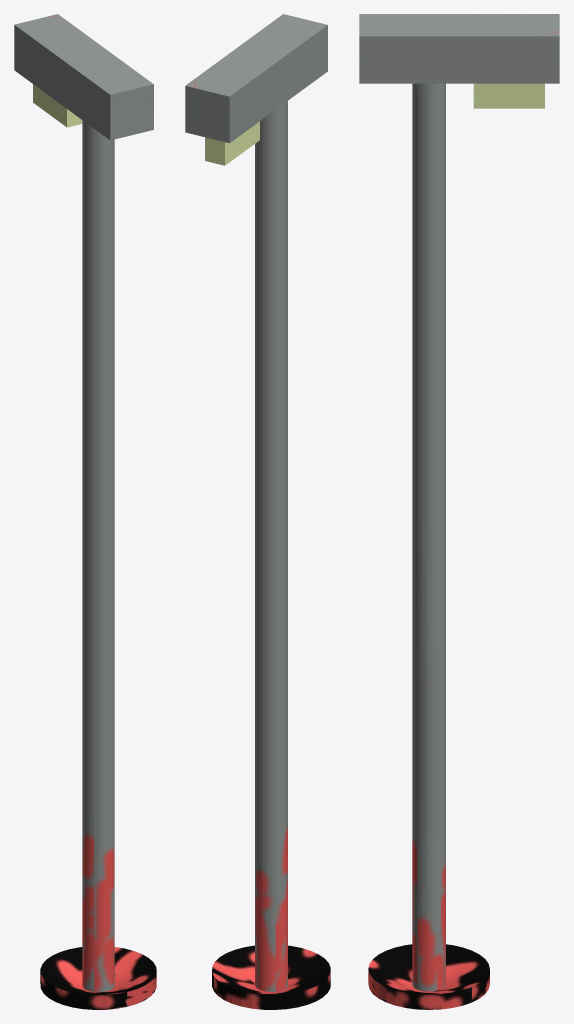
Rendered from lamppost.gltf.
The picture shows the model from 3 angles, left to right: view 1: azimuth 30°, elevation 25°; view 2: azimuth 150°, elevation 25°; view 3: azimuth 270°, elevation 25°; orthographic projection. The views are drawn at different scales.
Parts seen in each view (by area): view 1: Circle; view 2: Circle; view 3: Circle.
Boxes of the visible parts, <box> form: Circle: <box>14,14,156,1009</box>; Circle: <box>185,14,330,1009</box>; Circle: <box>359,14,559,1009</box>.
Bounding box in the file's own units: 2 × 17.43 × 3.3.
Materials: 1 (1 with a texture image).
